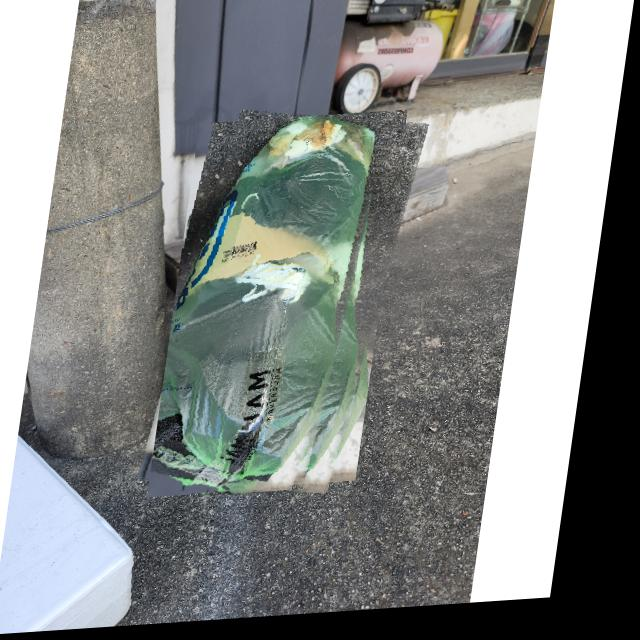general_trashbag: (166, 122, 378, 498)
